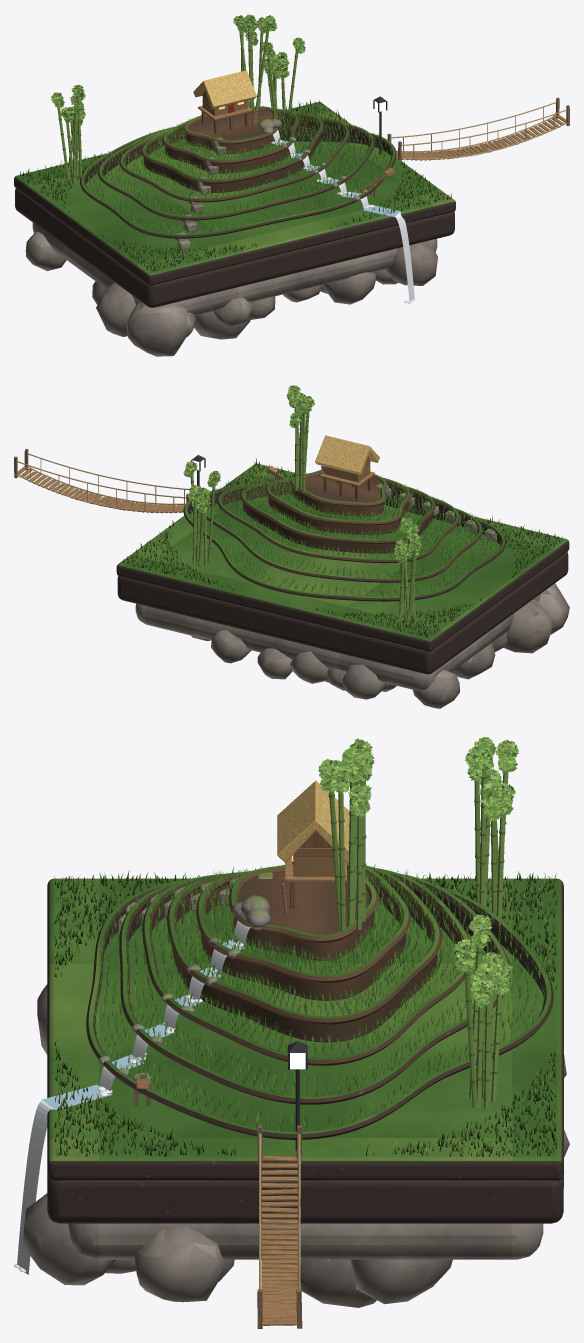
File: unlock-terraces-ha.glb
3 renders of one model, top to bottom at view 1: azimuth 30°, elevation 25°; view 2: azimuth 150°, elevation 25°; view 3: azimuth 270°, elevation 25°, orthographic. The views are drawn at different scales.
Parts seen in each view (by area): view 1: unlock-terraces-static, grass-left, fall-edge, water-surface-terraces; view 2: unlock-terraces-static, grass-left; view 3: unlock-terraces-static, grass-left, fall-edge, water-surface-terraces.
Boxes of the visible parts, <box> form: unlock-terraces-static: <box>14,14,569,356</box>; grass-left: <box>20,99,451,272</box>; fall-edge: <box>395,212,414,301</box>; water-surface-terraces: <box>276,140,400,216</box>; unlock-terraces-static: <box>14,385,569,708</box>; grass-left: <box>122,458,562,637</box>; unlock-terraces-static: <box>14,737,569,1328</box>; grass-left: <box>53,867,558,1156</box>; fall-edge: <box>17,1100,55,1274</box>; water-surface-terraces: <box>41,939,244,1109</box>.
Bounding box in the file's own units: 10.35 × 5.26 × 5.38.
Materials: 40 (21 with a texture image).
